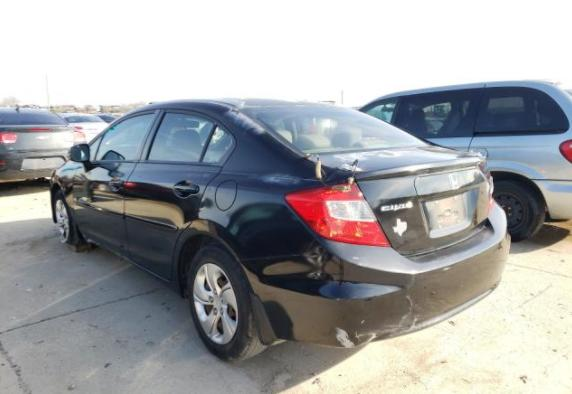Back-bumper: (237, 202, 511, 350)
Back-door: (124, 108, 237, 281)
Back-wheel: (187, 240, 270, 366)
Back-window: (147, 113, 214, 162), (202, 126, 232, 162)
Back-windshield: (239, 106, 432, 154)
Fender: (49, 160, 81, 231)
Front-door: (72, 108, 162, 259)
Front-wheel: (53, 189, 94, 246)
Front-window: (96, 114, 154, 160), (90, 136, 102, 160)
Mirror: (66, 143, 99, 173)
Quarter-panel: (171, 155, 356, 286)
Rocker-panel: (81, 233, 184, 299)
Roof: (205, 97, 350, 110)
Tail-light: (285, 177, 391, 247), (479, 158, 497, 212)
Trunk: (307, 145, 490, 257)
